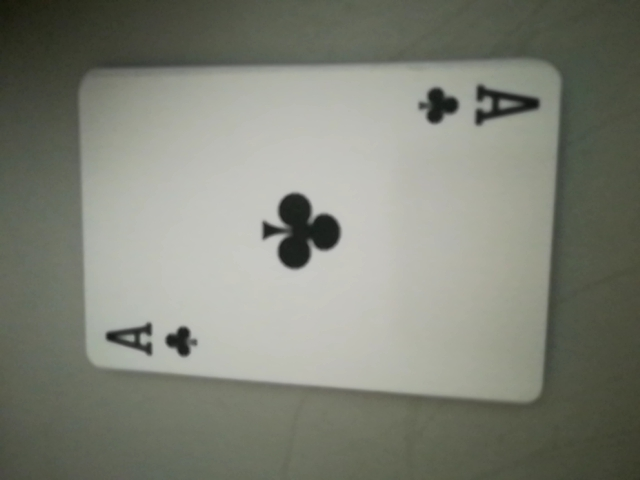mh a: (416, 76, 542, 137), (97, 310, 212, 368)
